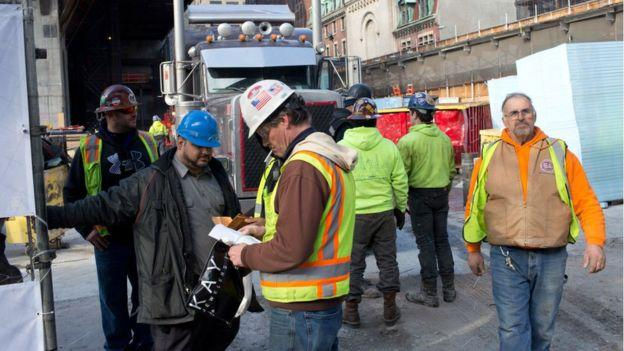helmet: (239, 79, 297, 139), (176, 110, 223, 149), (94, 85, 141, 114), (347, 99, 383, 123), (408, 92, 440, 112)
